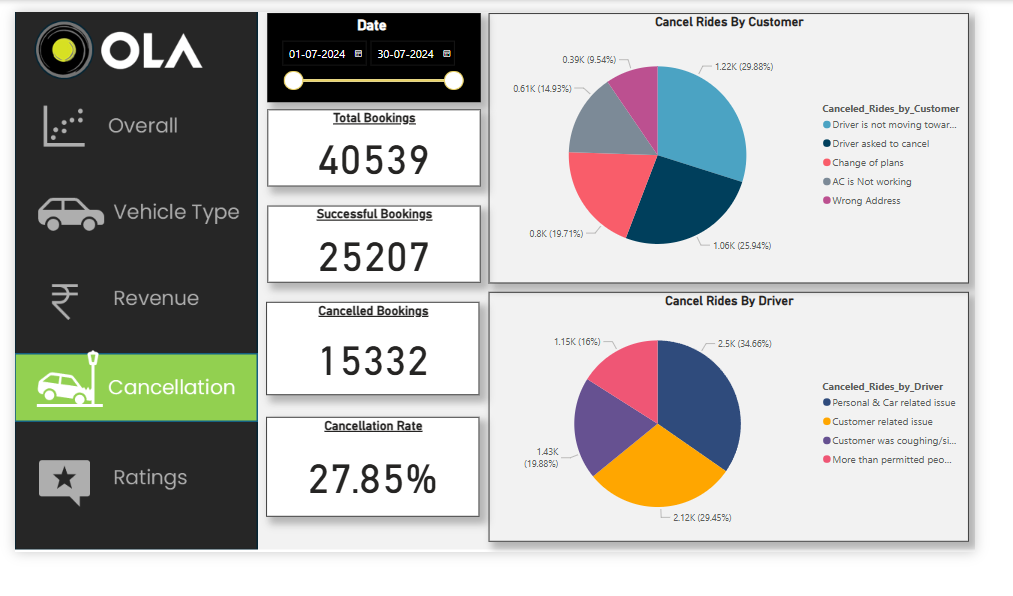

The dashboard page shown, as its layout file describes it:
{"tool":"powerbi","page":{"name":"Page 4","canvas":[1280,720],"ordinal":3},"visuals":[{"type":"actionButton","box":[0,220.9,325.2,95.7],"z":0},{"type":"actionButton","box":[0,339.9,325.2,95.7],"z":1000},{"type":"actionButton","box":[0,576.7,325.2,95.7],"z":2000},{"type":"actionButton","box":[0,114.1,325.2,95.7],"z":3000},{"type":"pieChart","title":"Cancel Rides By Customer","fields":{"Category":["July (2).Canceled_Rides_by_Customer","July (2).Booking_Status"],"Y":["CountNonNull(July (2).Canceled_Rides_by_Customer)"]},"box":[631.4,1.4,640,360],"z":4000},{"type":"pieChart","title":"Cancel Rides By Driver","fields":{"Category":["July (2).Canceled_Rides_by_Driver"],"Y":["CountNonNull(July (2).Canceled_Rides_by_Driver)"]},"box":[631.4,372.9,640,332.9],"z":5000},{"type":"slicer","title":"Date","fields":{"Values":["July (2).Date"]},"box":[336.2,1.2,283.8,118.8],"z":6000},{"type":"card","title":"Total Bookings","fields":{"Values":["Count(July (2).Booking_ID)"]},"box":[336.2,130,283.8,102.5],"z":7000},{"type":"card","title":"Successful Bookings","fields":{"Values":["Count(July (2).Booking_ID)"]},"box":[336.2,257.5,283.8,102.5],"z":8000},{"type":"card","title":"Cancelled Bookings","fields":{"Values":["Count(July (2).Booking_ID)"]},"box":[335.7,387.1,284.3,124.3],"z":9000},{"type":"card","title":"Cancellation Rate","fields":{"Values":["July (2).Cancillation Rate"]},"box":[335.7,540,284.3,132.9],"z":10000}]}

Visuals, with their boxes on the page's 1280x720 design canvas (x1, y1, x2, y2). These are canvas units, not pixel positions in the 1013x596 screenshot, which may show the page scaled, cropped or inside an application window:
actionButton: left=0, top=221, right=325, bottom=317
actionButton: left=0, top=340, right=325, bottom=436
actionButton: left=0, top=577, right=325, bottom=672
actionButton: left=0, top=114, right=325, bottom=210
"Cancel Rides By Customer" pieChart: left=631, top=1, right=1271, bottom=361
"Cancel Rides By Driver" pieChart: left=631, top=373, right=1271, bottom=706
"Date" slicer: left=336, top=1, right=620, bottom=120
"Total Bookings" card: left=336, top=130, right=620, bottom=232
"Successful Bookings" card: left=336, top=258, right=620, bottom=360
"Cancelled Bookings" card: left=336, top=387, right=620, bottom=511
"Cancellation Rate" card: left=336, top=540, right=620, bottom=673
